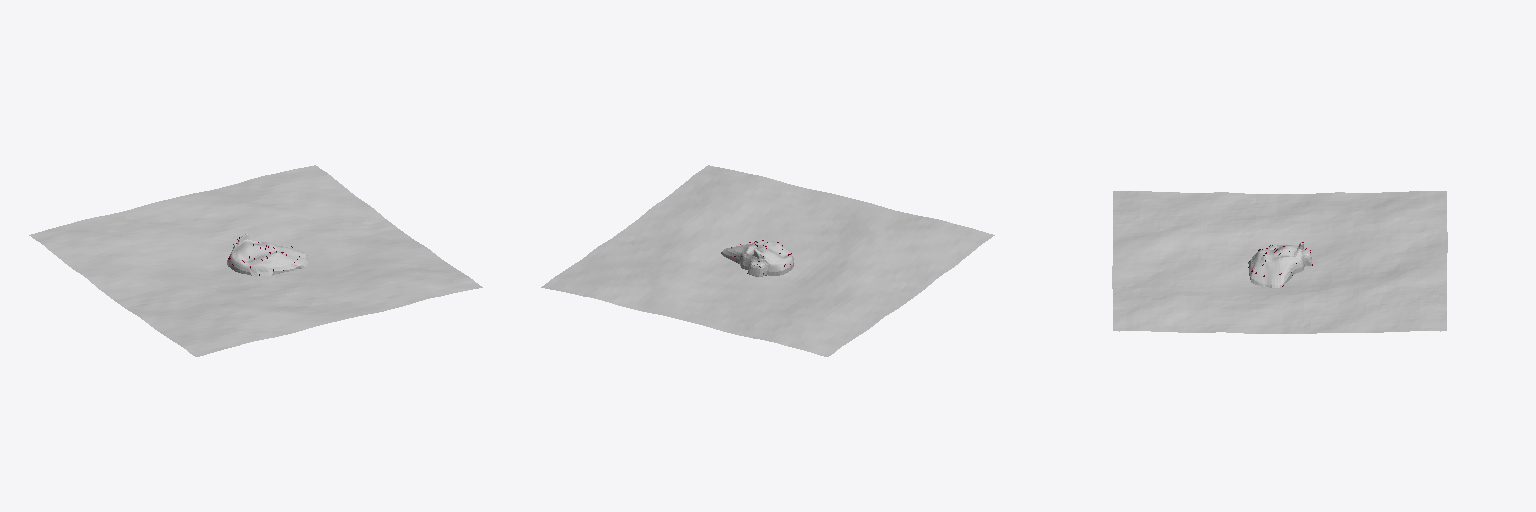
3 views of the same model, side by side, from view 1: azimuth 30°, elevation 25°; view 2: azimuth 150°, elevation 25°; view 3: azimuth 270°, elevation 25° (orthographic).
Parts seen in each view (by area): view 1: 平面, Cube; view 2: 平面, Cube; view 3: 平面, Cube.
Part boxes in pixels (x1,y1,x2,y2): 平面: (29,165,482,356); Cube: (227,234,308,275); 平面: (541,165,994,356); Cube: (721,241,793,276); 平面: (1112,191,1447,333); Cube: (1248,242,1311,287).
Bounding box in the file's own units: 10.33 × 0.9792 × 10.45.